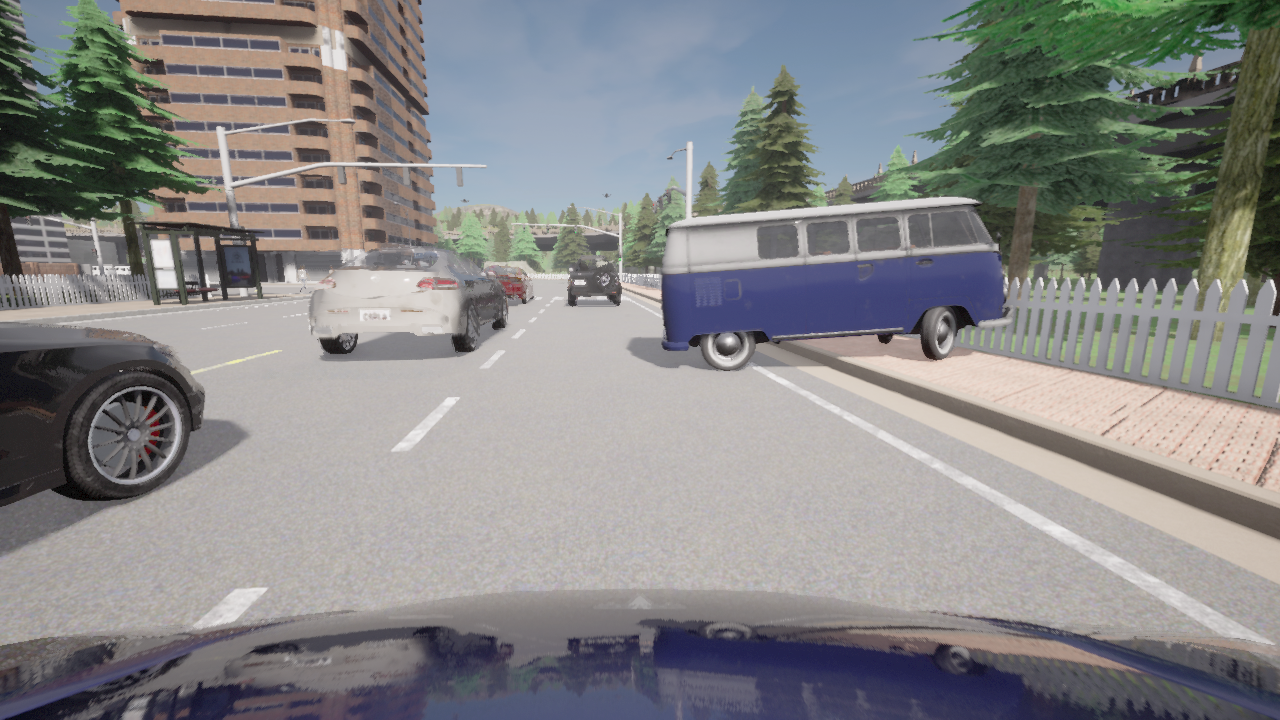cyclist: (0, 588, 1279, 719), (661, 197, 1012, 371), (308, 247, 507, 355), (569, 256, 620, 305), (483, 265, 534, 304), (78, 264, 116, 277), (104, 264, 130, 274)
pedestrian: (297, 265, 310, 292), (330, 266, 333, 272)
